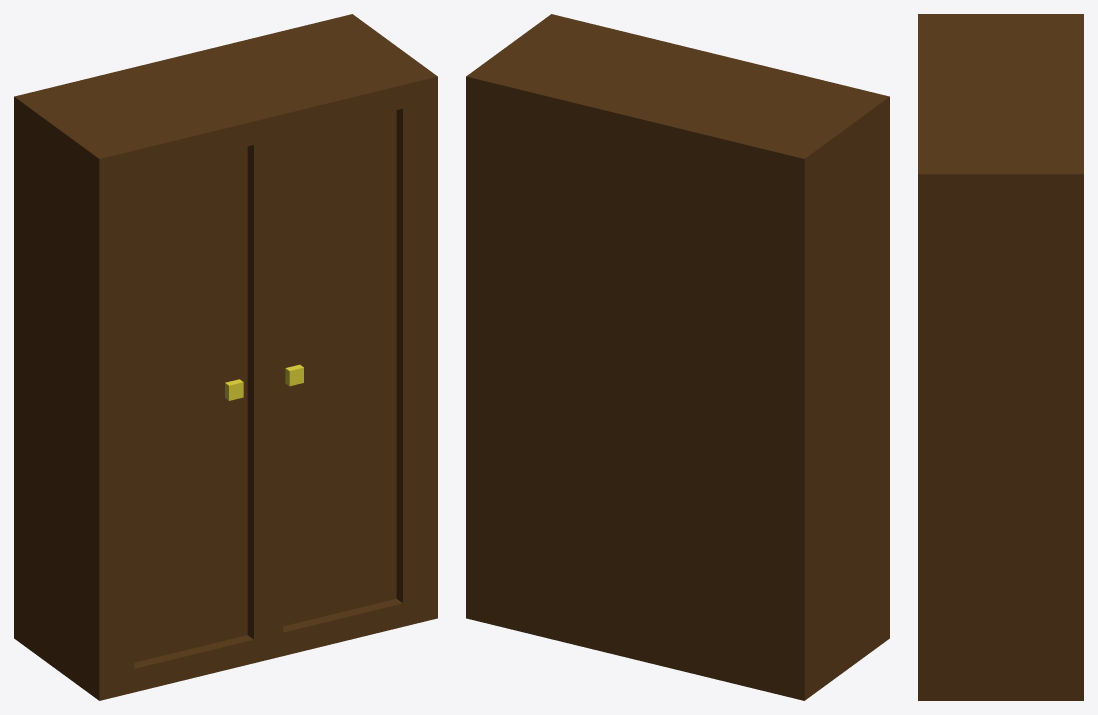
The model's file is Cabinet.fbx.
The picture shows the model from 3 angles, left to right: view 1: azimuth 30°, elevation 25°; view 2: azimuth 150°, elevation 25°; view 3: azimuth 270°, elevation 25°; orthographic projection. The views are drawn at different scales.
Visible parts, largest first — view 1: Cabinet; view 2: Cabinet; view 3: Cabinet.
Part boxes in pixels (bbox=[...]): Cabinet: bbox=[14, 14, 437, 700]; Cabinet: bbox=[466, 14, 889, 700]; Cabinet: bbox=[918, 14, 1083, 700].
Size of the model in its own units: 728 by 1115 by 318.
